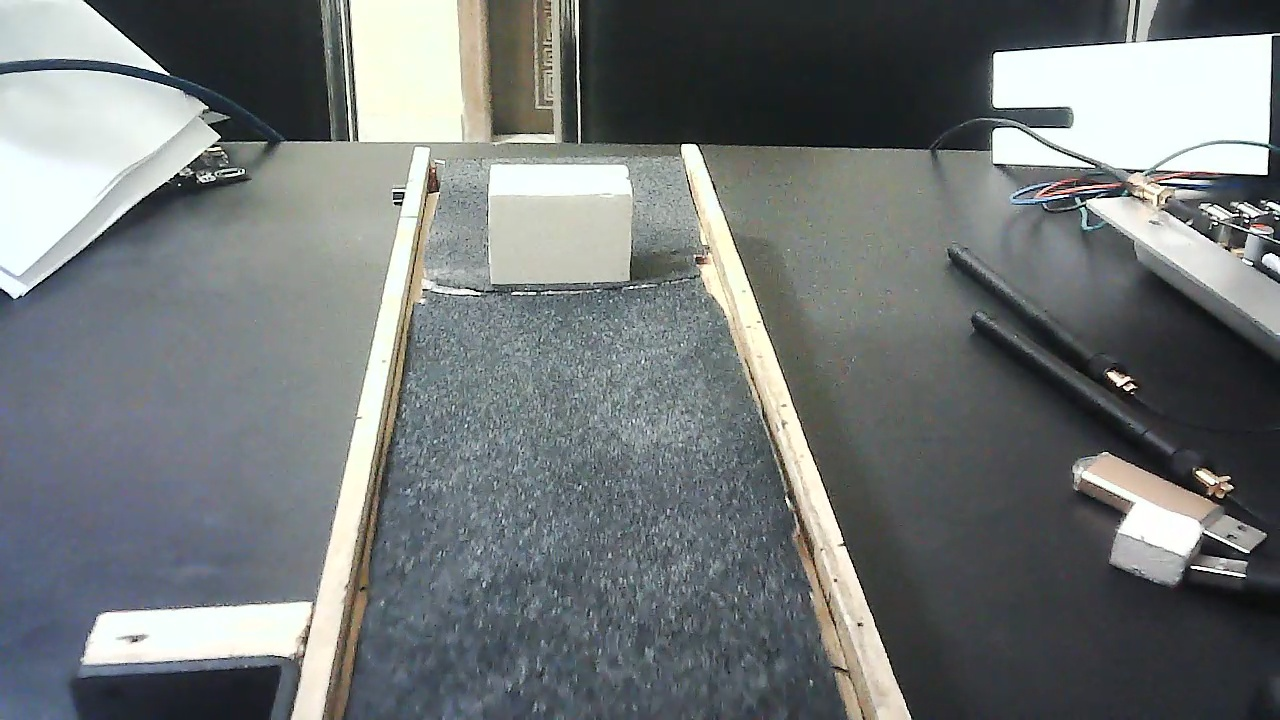BIG: (487, 153, 632, 298)
